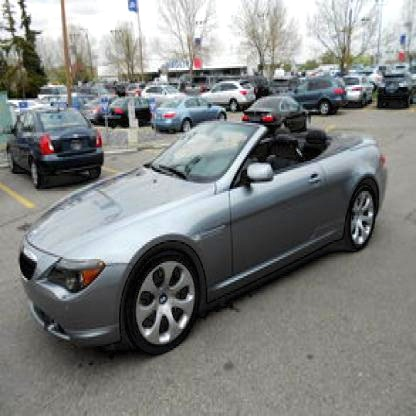Vehicle: (20, 119, 390, 356)
